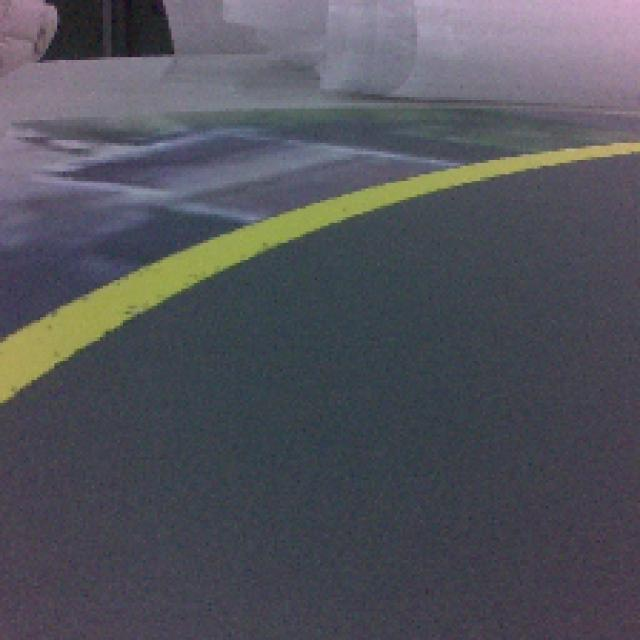Road: (2, 397, 638, 638)
